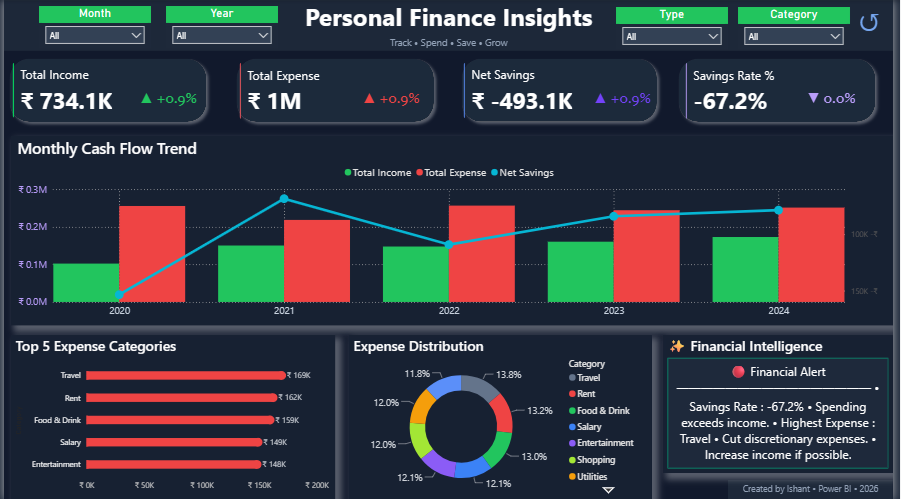

The page's visual inventory and layout, read from the dashboard file:
{"tool":"powerbi","page":{"name":"Page 1","canvas":[1366,768],"ordinal":0},"visuals":[{"type":"shape","box":[695.2,80.7,317.8,114.7],"z":0,"group":"g2"},{"type":"shape","box":[348.8,80.7,320.9,115],"z":1000,"group":"g3"},{"type":"shape","box":[0,80.7,320,115],"z":2000,"group":"g4"},{"type":"textbox","title":"Personal Finance Insights","box":[0,0,1366,77.7],"z":3000},{"type":"cardVisual","fields":{"Data":["all measures.Total Expense"]},"box":[348.8,82.6,209.3,113.1],"z":4000,"group":"g3"},{"type":"cardVisual","fields":{"Data":["all measures.Net Savings"]},"box":[693,82.8,256.5,112.9],"z":5000,"group":"g2"},{"type":"shape","box":[1027.7,80.7,320,115],"z":6000,"group":"g1"},{"type":"cardVisual","fields":{"Data":["all measures.Savings Rate %"]},"box":[1033.3,82.6,256,113.1],"z":7000,"group":"g1"},{"type":"cardVisual","title":"Income","fields":{"Data":["all measures.Total Income"]},"box":[0,82.6,238.8,111.3],"z":8000,"group":"g4"},{"type":"lineClusteredColumnComboChart","title":"Monthly Cash Flow Trend","fields":{"Y":["all measures.Total Income","all measures.Total Expense"],"Y2":["all measures.Net Savings"],"Category":["Date Table.Date.Variation.Date Hierarchy.Year","Date Table.Month Short"]},"box":[10.8,209.6,1355.2,290.9],"z":9000},{"type":"clusteredBarChart","title":"Top 5 Expense Categories","fields":{"Category":["finance_dashboard.Category"],"Y":["all measures.Total Expense"]},"box":[10.8,514.6,497.7,253.4],"z":10000},{"type":"donutChart","title":"Expense Distribution","fields":{"Category":["finance_dashboard.Category"],"Y":["all measures.Total Expense"]},"box":[529.9,514.6,465.4,253.4],"z":12000},{"type":"group","id":"g1","title":"Group 1","box":[1027.7,80.7,320,115],"z":12001},{"type":"group","id":"g2","title":"Group 2","box":[693,80.7,320,115],"z":12002},{"type":"group","id":"g3","title":"Group 3","box":[348.8,80.7,320,115],"z":12003},{"type":"group","id":"g4","title":"Group 4","box":[0,80.7,320,115],"z":12004},{"type":"shape","box":[187.3,111.6,129.1,78.2],"z":12005},{"type":"shape","box":[529.3,111.6,129.1,78.2],"z":12006},{"type":"shape","box":[884,111.6,129.1,78.2],"z":12007},{"type":"shape","box":[1205.9,111.6,129.1,78.2],"z":12008},{"type":"slicer","title":"Month","fields":{"Values":["Date Table.Date.Variation.Date Hierarchy.Month"]},"box":[54.2,9,171.7,65],"z":12009},{"type":"slicer","title":"Category","fields":{"Values":["finance_dashboard.Category"]},"box":[1127.5,10.8,171.7,65],"z":12010},{"type":"slicer","title":"Type","fields":{"Values":["finance_dashboard.Type"]},"box":[939.6,10.8,171.7,65],"z":12011},{"type":"slicer","title":"Year","fields":{"Values":["Date Table.Year"]},"box":[249.3,9,171.7,65],"z":12012},{"type":"actionButton","box":[1289.6,0,76.4,63.7],"z":12013},{"type":"textbox","box":[1112.1,737.3,253.4,30.7],"z":12014},{"type":"shape","title":"✨ Financial Intelligence","box":[1012.2,514.6,353.3,212],"z":12015}]}

Visuals, with their boxes in screenshot pixels (x1, y1, x2, y2), scaled from the page's 1366x768 canvas onto the 901x500 screenshot:
shape: <bbox>459, 53, 668, 127</bbox>
shape: <bbox>230, 53, 442, 127</bbox>
shape: <bbox>0, 53, 211, 127</bbox>
"Personal Finance Insights" textbox: <bbox>0, 0, 900, 51</bbox>
cardVisual - all measures.Total Expense: <bbox>230, 54, 368, 127</bbox>
cardVisual - all measures.Net Savings: <bbox>457, 54, 626, 127</bbox>
shape: <bbox>678, 53, 889, 127</bbox>
cardVisual - all measures.Savings Rate %: <bbox>682, 54, 850, 127</bbox>
"Income" cardVisual: <bbox>0, 54, 158, 126</bbox>
"Monthly Cash Flow Trend" lineClusteredColumnComboChart: <bbox>7, 136, 900, 326</bbox>
"Top 5 Expense Categories" clusteredBarChart: <bbox>7, 335, 335, 499</bbox>
"Expense Distribution" donutChart: <bbox>350, 335, 656, 499</bbox>
"Group 1" group: <bbox>678, 53, 889, 127</bbox>
"Group 2" group: <bbox>457, 53, 668, 127</bbox>
"Group 3" group: <bbox>230, 53, 441, 127</bbox>
"Group 4" group: <bbox>0, 53, 211, 127</bbox>
shape: <bbox>124, 73, 209, 124</bbox>
shape: <bbox>349, 73, 434, 124</bbox>
shape: <bbox>583, 73, 668, 124</bbox>
shape: <bbox>795, 73, 881, 124</bbox>
"Month" slicer: <bbox>36, 6, 149, 48</bbox>
"Category" slicer: <bbox>744, 7, 857, 49</bbox>
"Type" slicer: <bbox>620, 7, 733, 49</bbox>
"Year" slicer: <bbox>164, 6, 278, 48</bbox>
actionButton: <bbox>851, 0, 900, 41</bbox>
textbox: <bbox>734, 480, 900, 499</bbox>
"✨ Financial Intelligence" shape: <bbox>668, 335, 900, 473</bbox>
